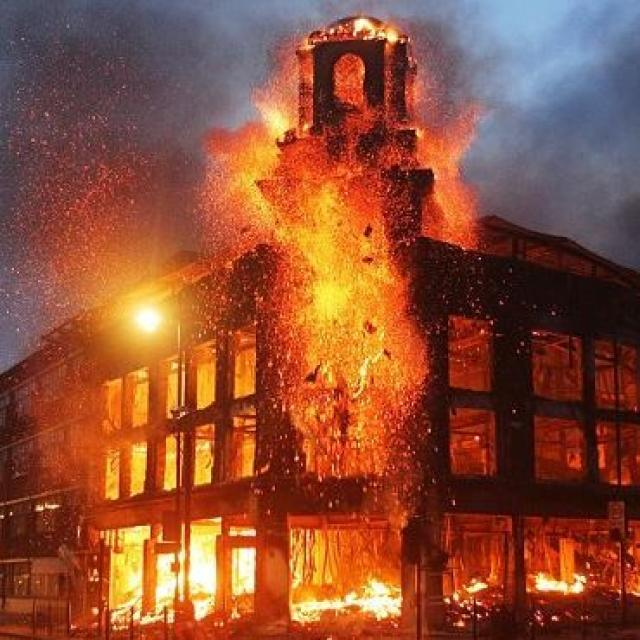Fire: (218, 32, 506, 486), (83, 350, 313, 515), (129, 523, 230, 623), (290, 576, 426, 637), (229, 533, 272, 607), (523, 560, 604, 598), (114, 556, 150, 614), (456, 567, 498, 603)
Smoke: (0, 67, 194, 282), (512, 68, 640, 249)
